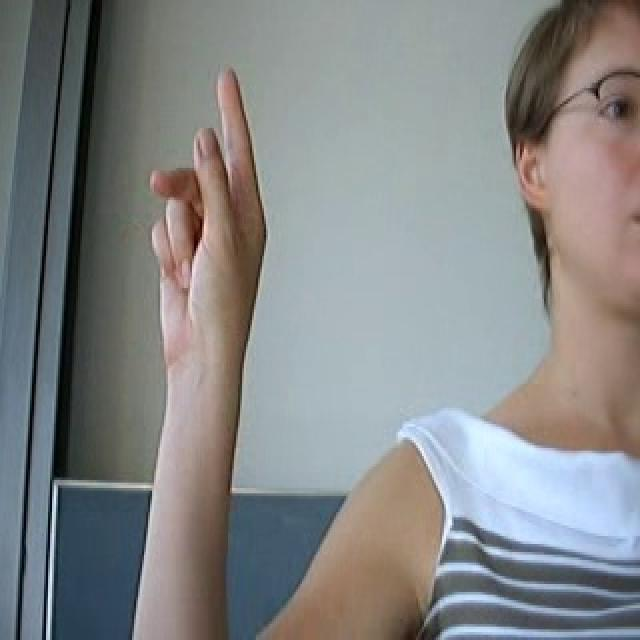K: (133, 60, 283, 368)
